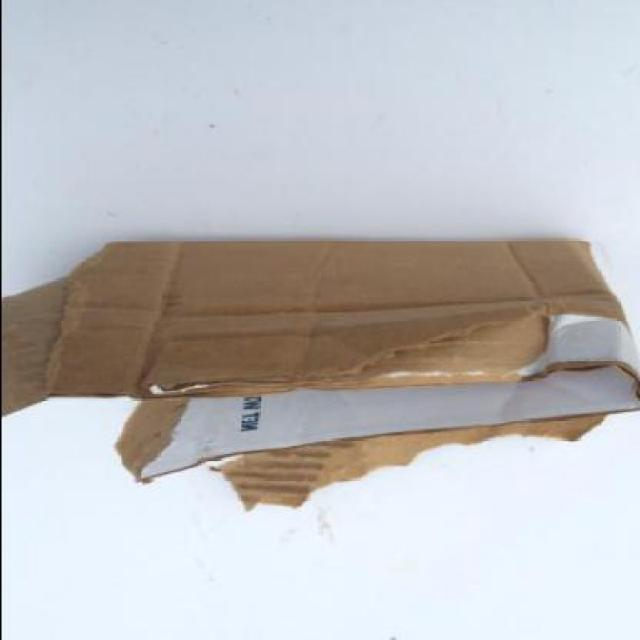CARDBOARD: (1, 243, 638, 515), (1, 245, 638, 428)
